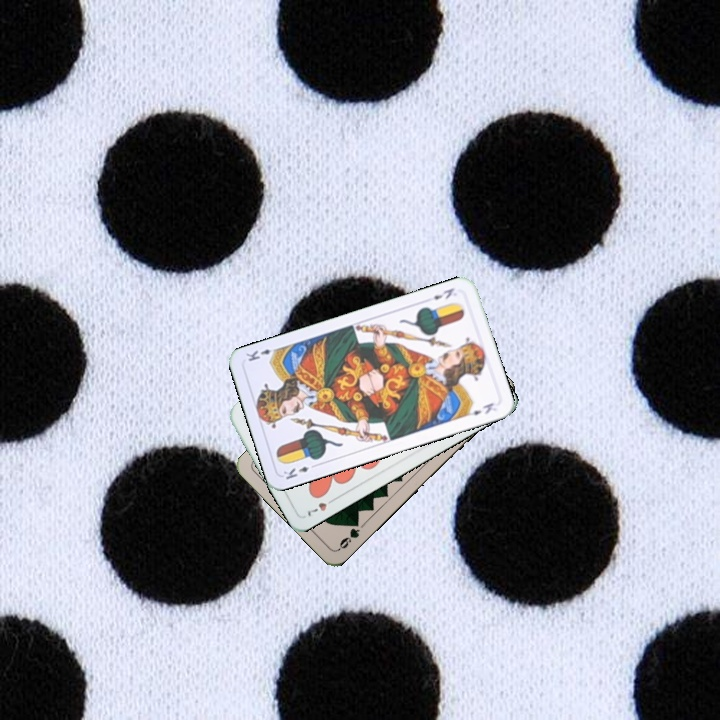EK: (279, 460, 320, 482), (429, 284, 457, 302)
G9: (334, 516, 362, 553)
H7: (303, 494, 339, 519)
